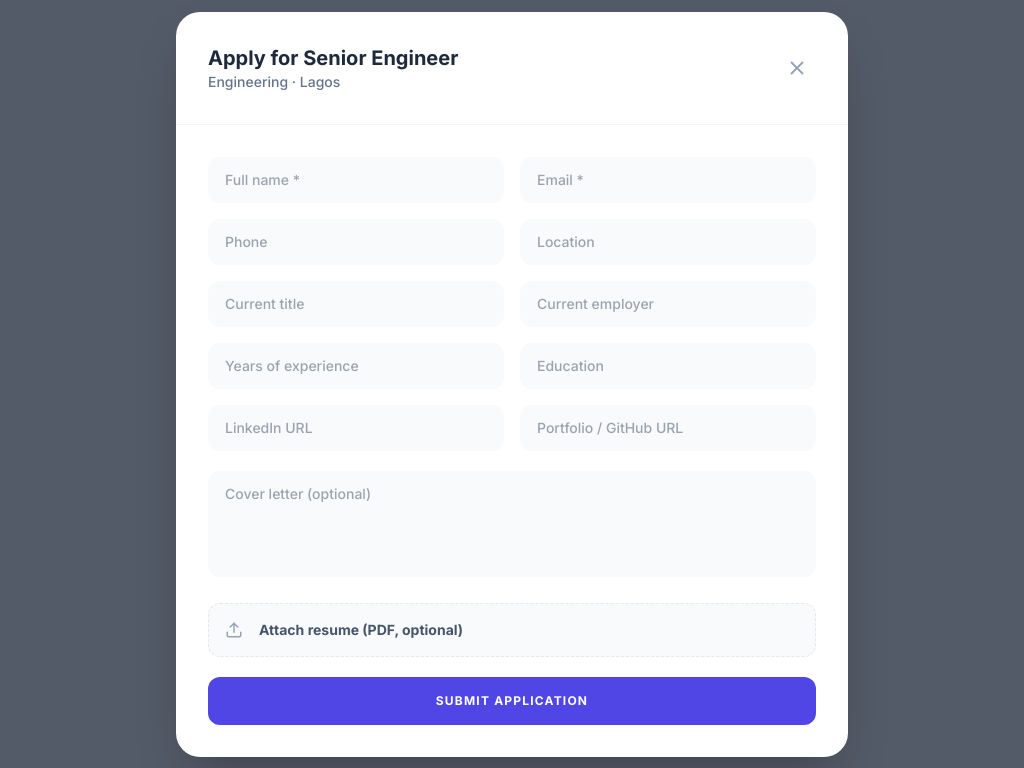
it: JobApplicationForm (public, unauthenticated) › surfaces a server-side error instead of silently failing
In the field with placeholder "Full name *": (356, 180) [208,156,504,202], type "Ada Lovelace"
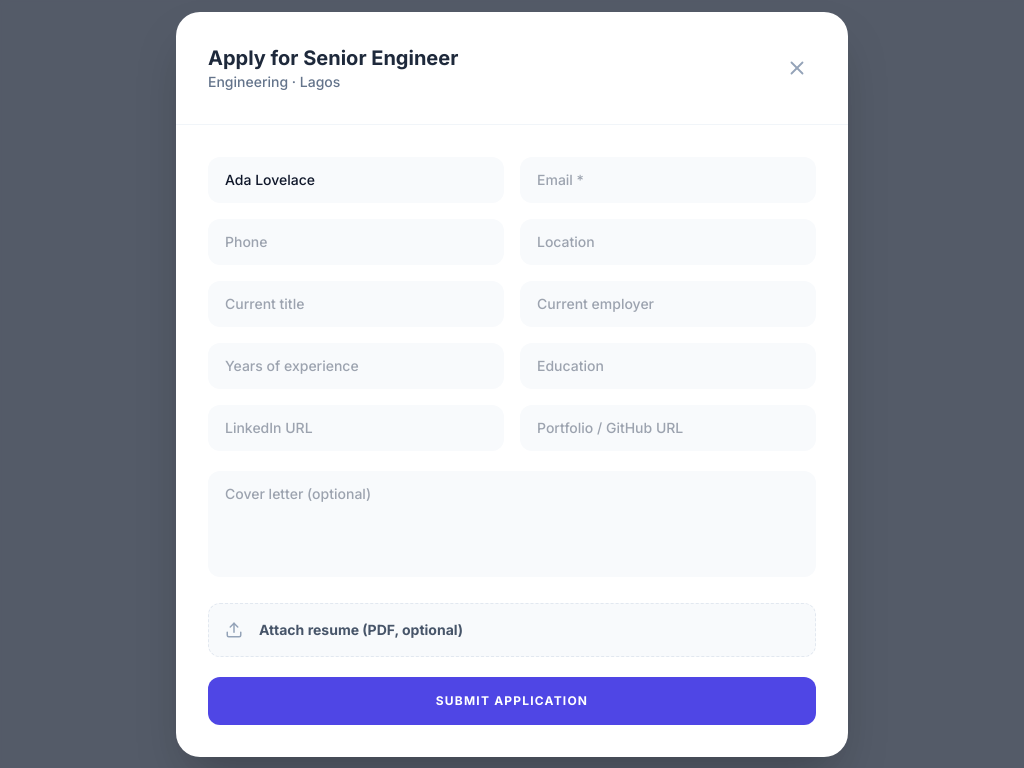
In the field with placeholder "Email *": (668, 180) [520,156,816,202], type "ada@example.com"
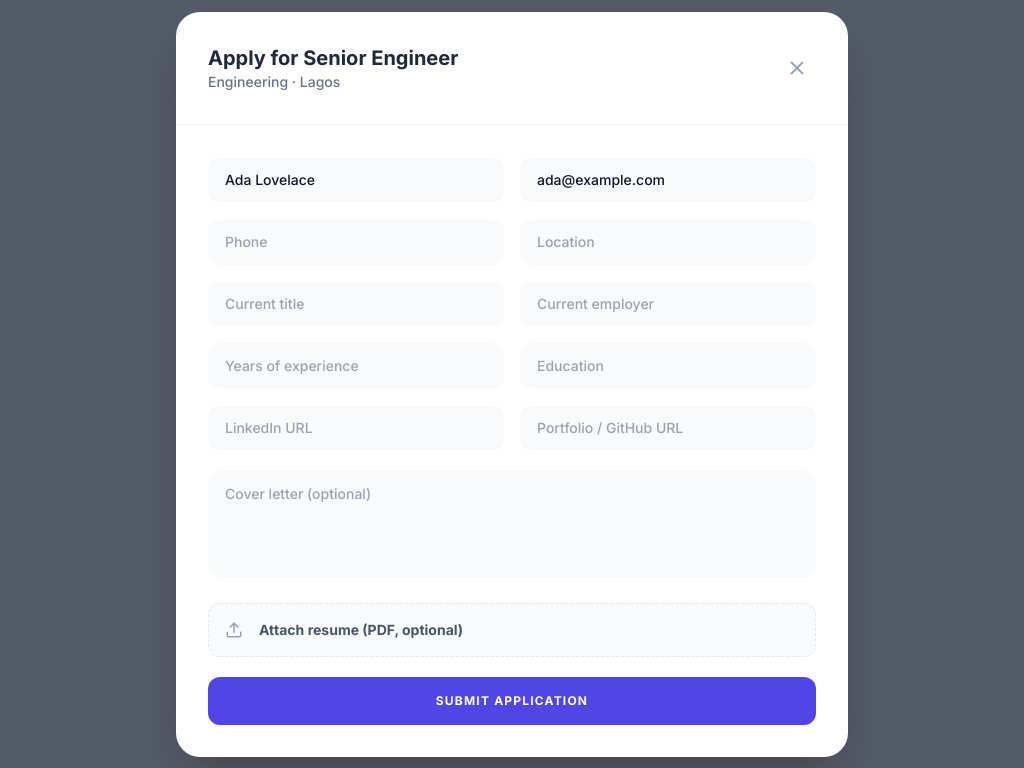
Click the button "Submit Application": (512, 700) [208,676,816,724]
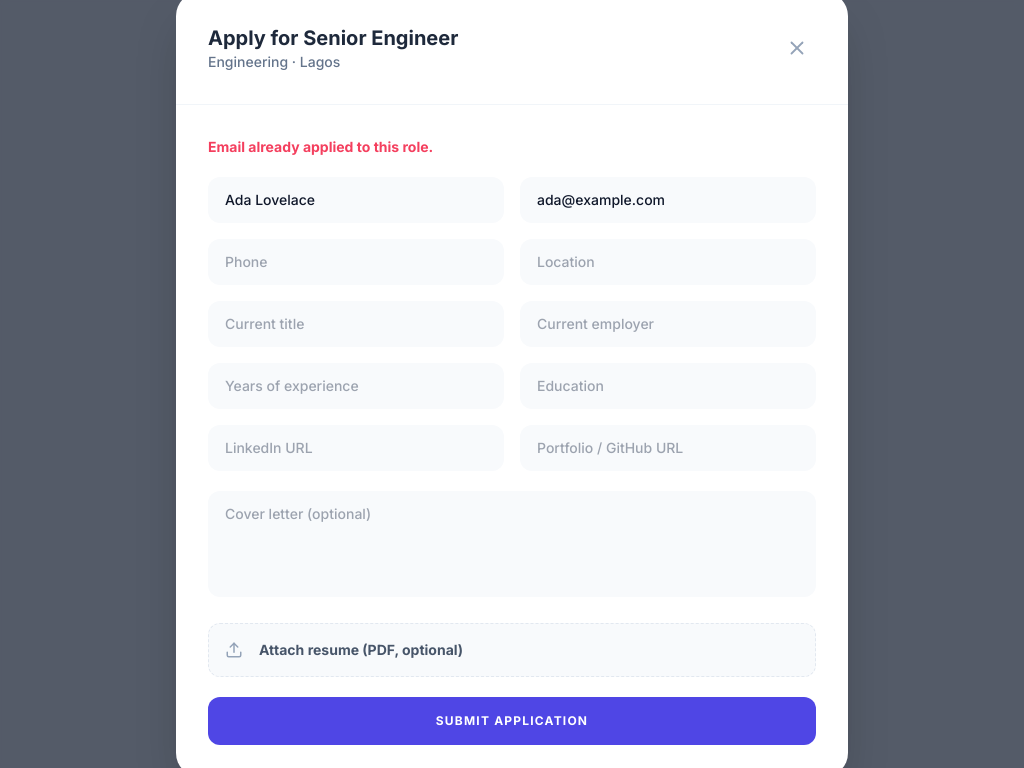
Expected: the text "Email already applied to this role." is shown, [208,138,433,154]
